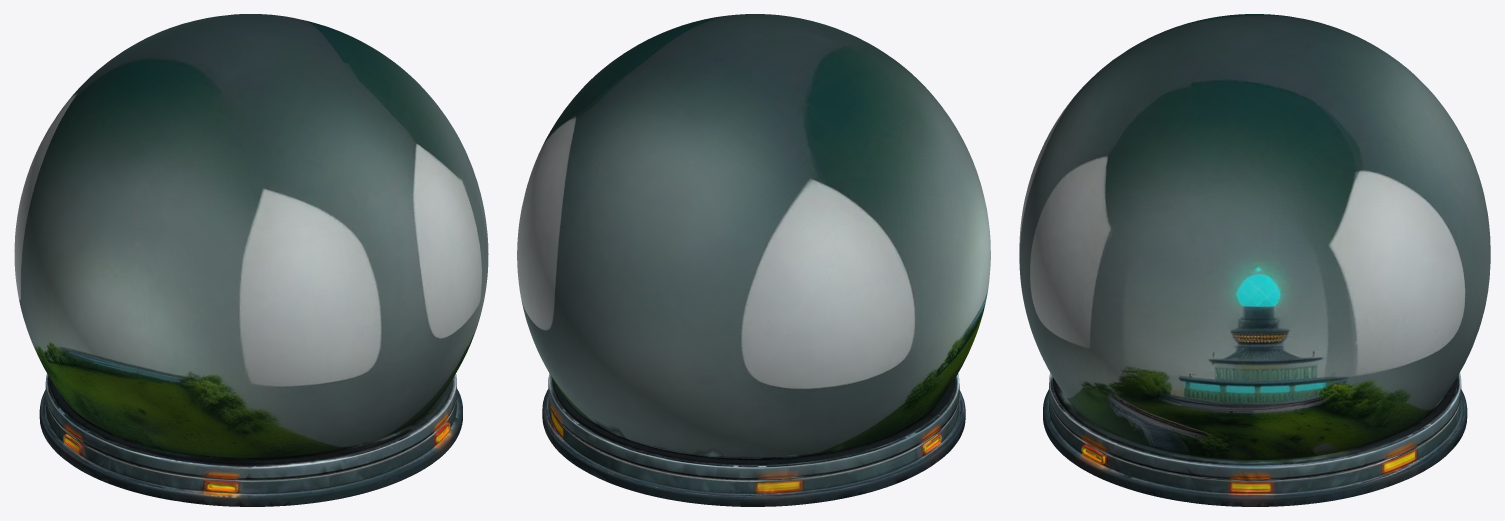
File: hero-sky-dome.glb
3 renders of one model, left to right at view 1: azimuth 30°, elevation 25°; view 2: azimuth 150°, elevation 25°; view 3: azimuth 270°, elevation 25°, orthographic.
Visible parts, largest first — view 1: node_0; view 2: node_0; view 3: node_0.
Boxes of the visible parts, x1,y1,x2,y2 form: node_0: (14, 14, 488, 506); node_0: (517, 14, 990, 506); node_0: (1019, 14, 1490, 506).
Bounding box in the file's own units: 0.9481 × 0.8465 × 0.9479.
Materials: 1 (1 with a texture image).
